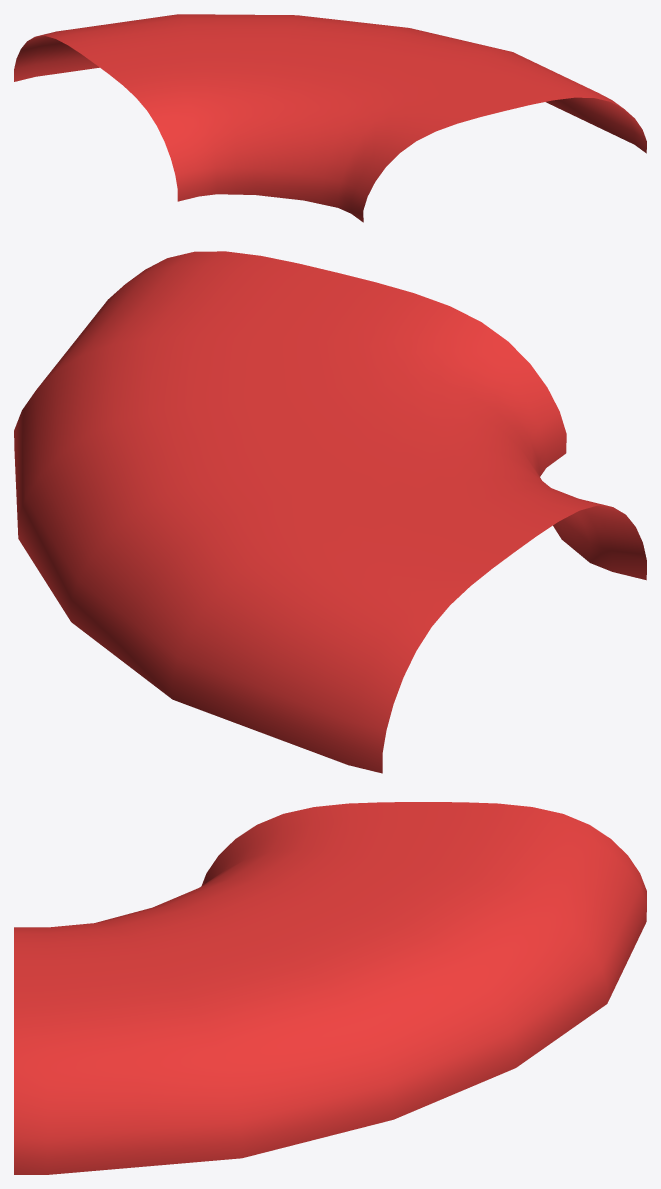
Rendered from blood_vein_right.fbx.
3 views of the same model, one above another, from view 1: azimuth 30°, elevation 25°; view 2: azimuth 150°, elevation 25°; view 3: azimuth 270°, elevation 25° (orthographic). The views are drawn at different scales.
Visible parts, largest first — view 1: blood vein right; view 2: blood vein right; view 3: blood vein right.
Part boxes in pixels (x1,y1,x2,y2): blood vein right: (14, 14, 646, 222); blood vein right: (14, 251, 646, 773); blood vein right: (14, 802, 646, 1174).
Size of the model in its own units: 77.33 by 14.23 by 77.33.
